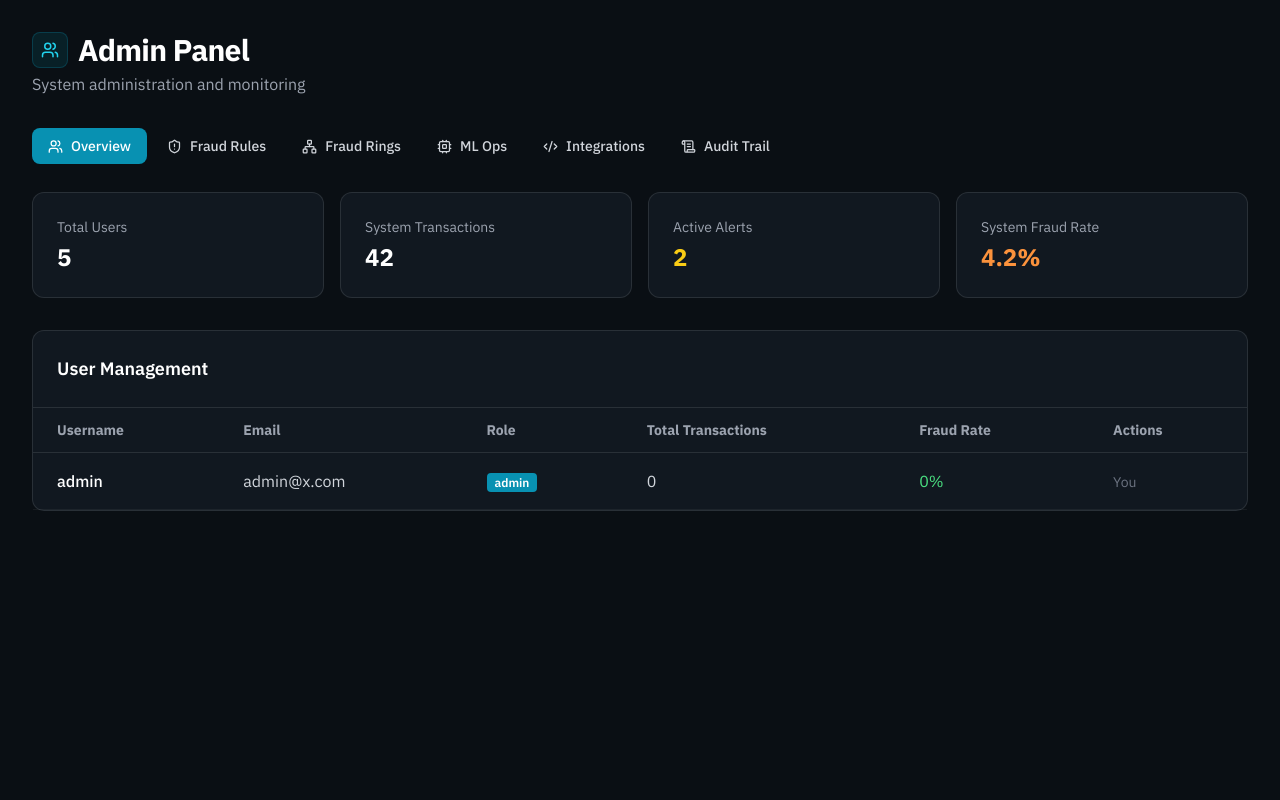
it: AdminPage — Fraud Rules tab › Preview Impact is disabled until the required field is filled in
Expected: the heading "User Management" is shown, [57,357,208,380]
Click the button "Fraud Rules" at (217, 146), box [151,128,282,164]
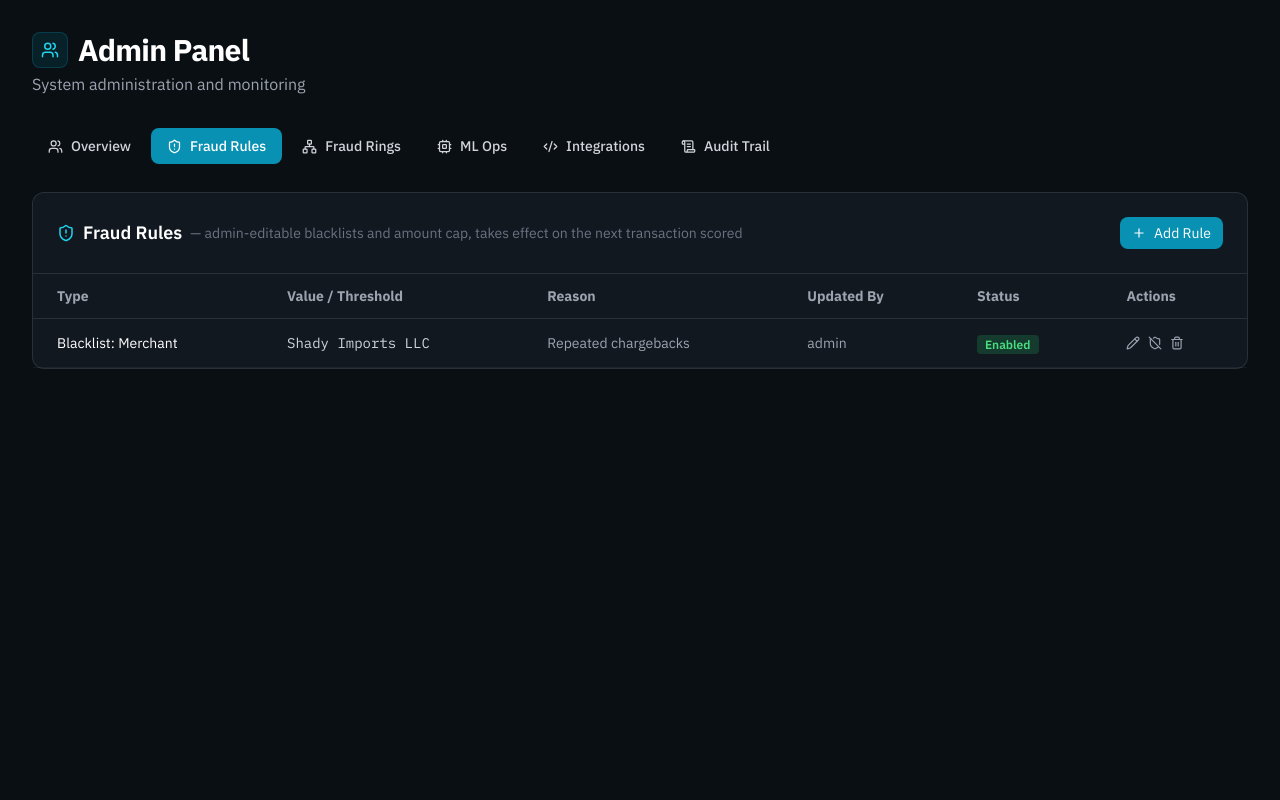
Click the button "Add Rule" at (1172, 233), box [1120,217,1223,249]
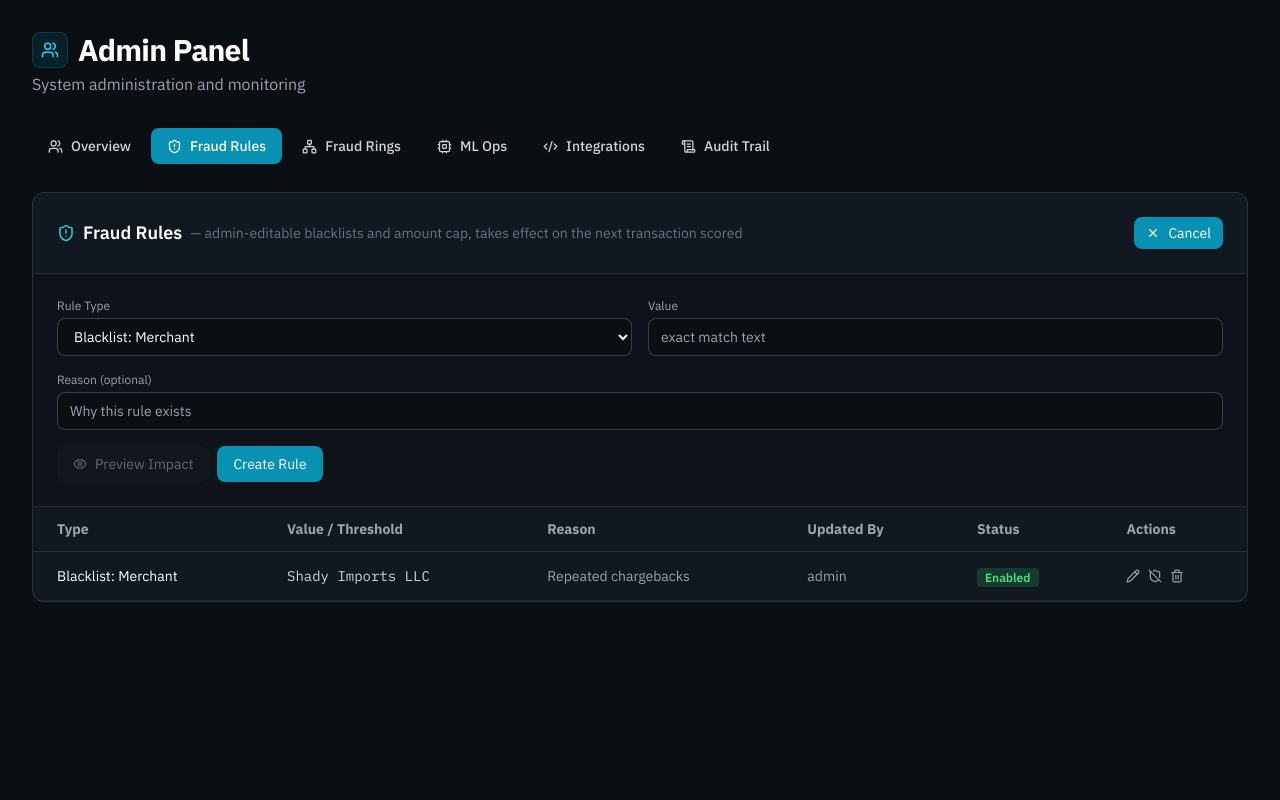
Now the button "Preview Impact" is disabled, box [57,446,209,482]
Type "Shady Imports LLC" into the field with placeholder "exact match text" at (936, 337), box [648,318,1223,356]
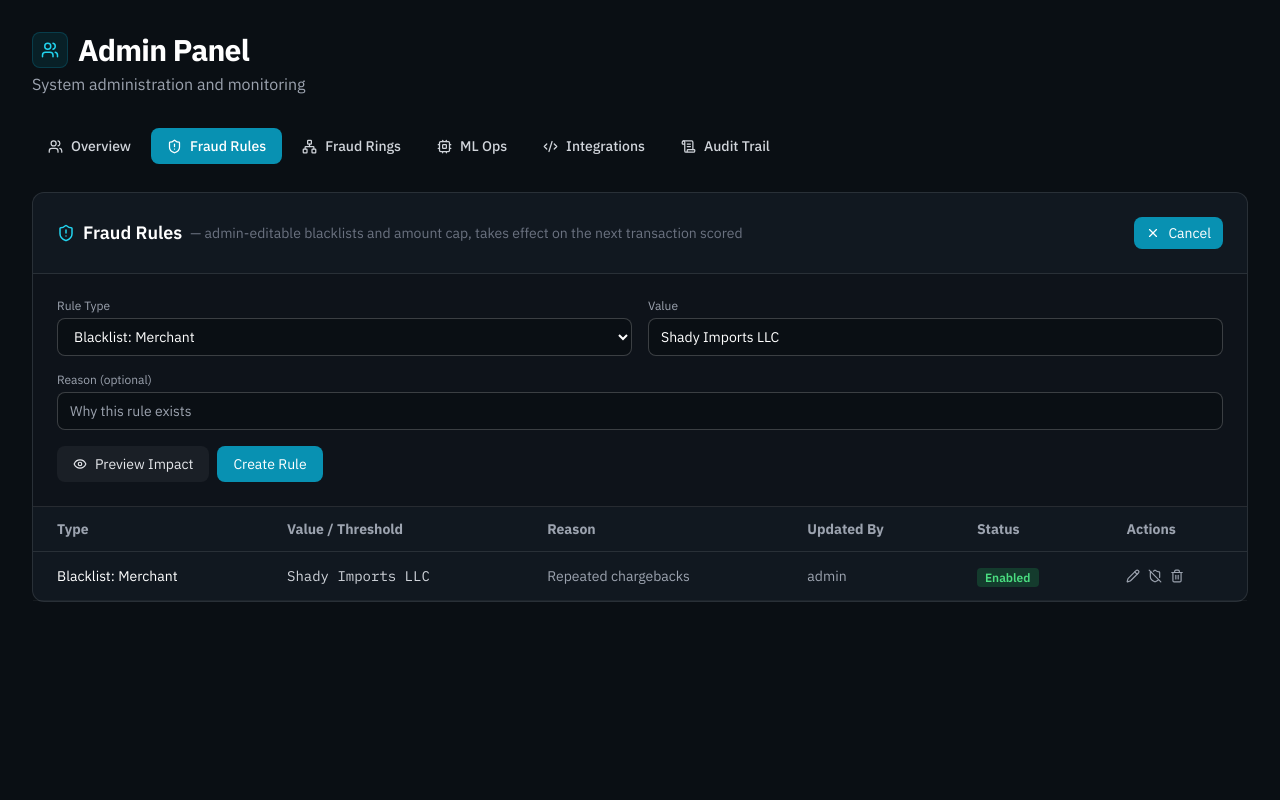
Now the button "Preview Impact" is enabled, box [57,446,209,482]
